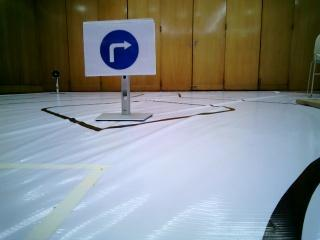right: (85, 25, 155, 71)
